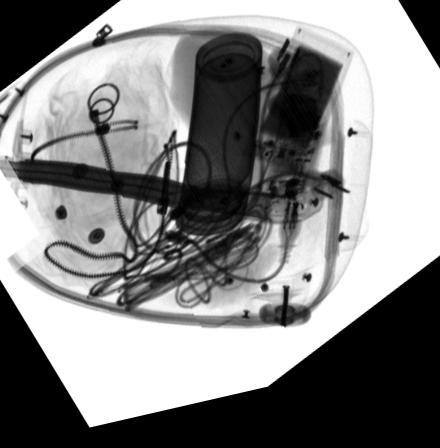Powerbank: (247, 43, 354, 194)
